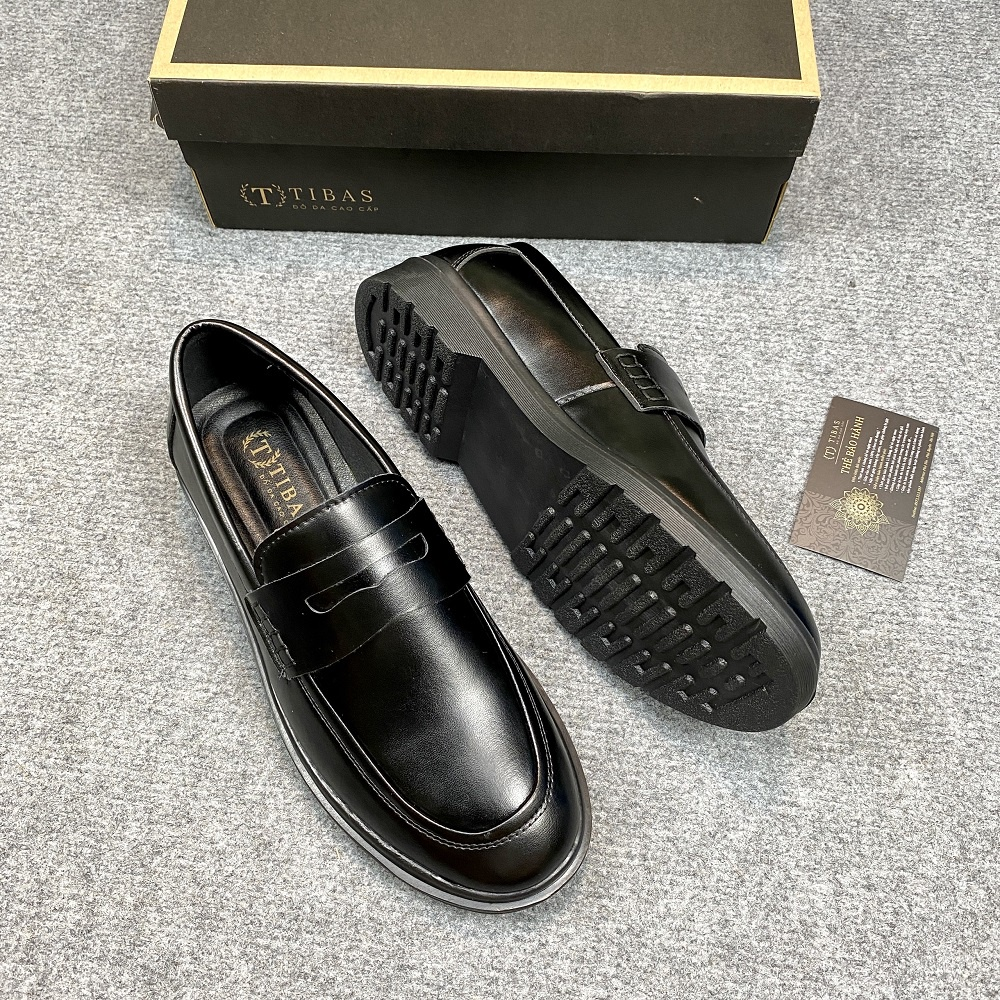loafers: (166, 318, 591, 912), (355, 240, 816, 735)
